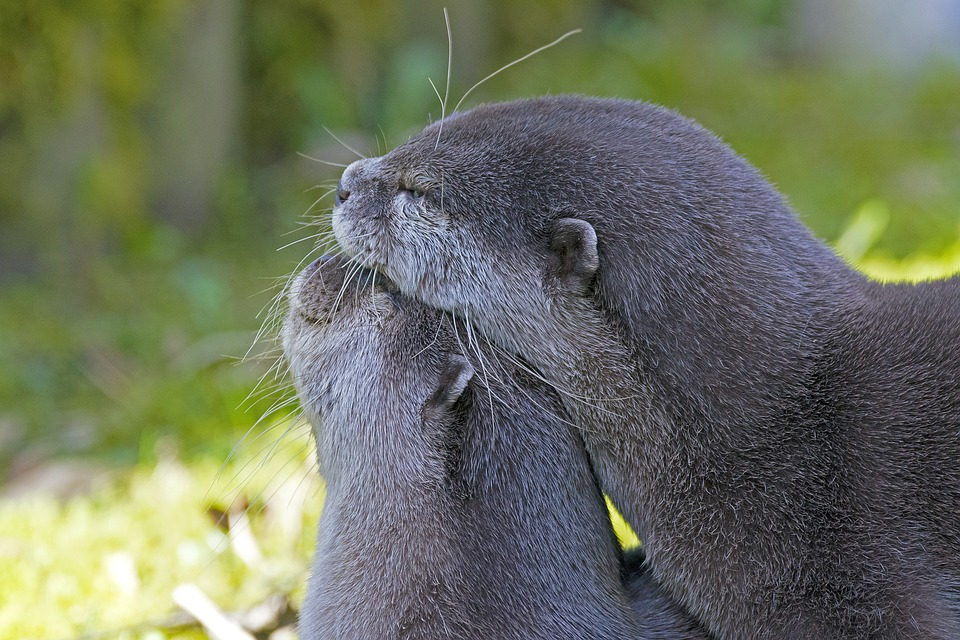otter: (337, 66, 905, 640)
